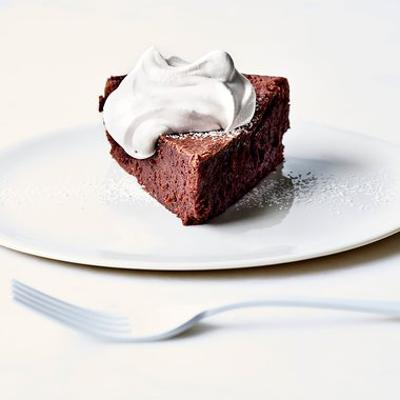cake: (94, 53, 293, 231)
